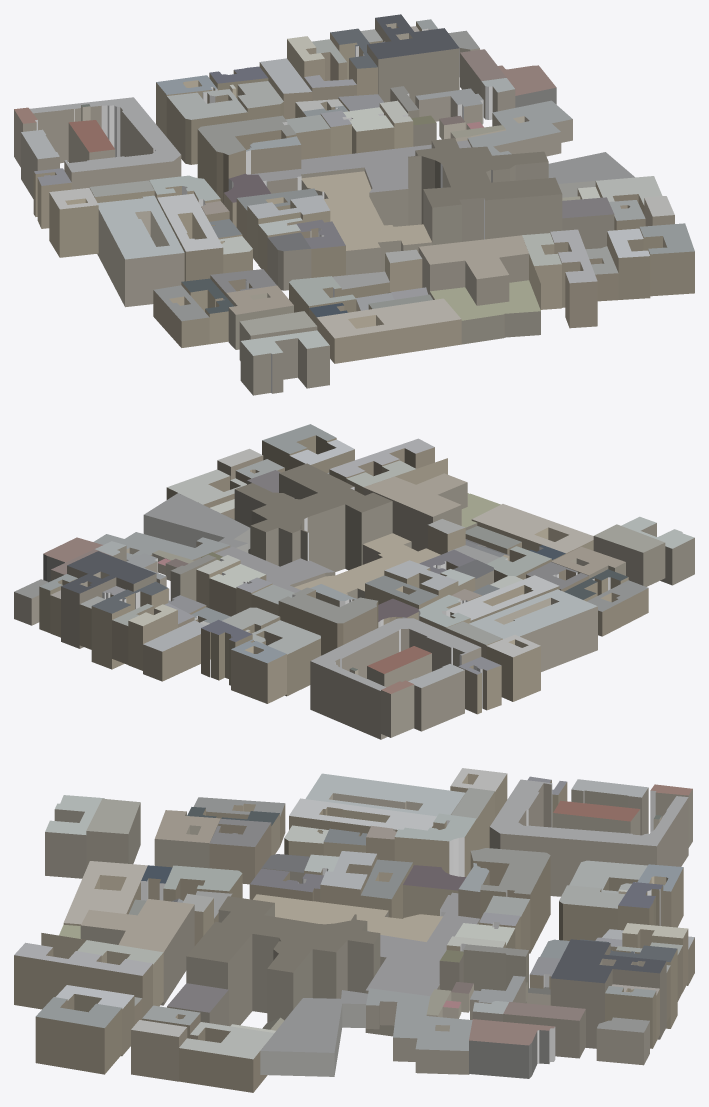
3 renders of one model, top to bottom at view 1: azimuth 30°, elevation 25°; view 2: azimuth 150°, elevation 25°; view 3: azimuth 270°, elevation 25°, orthographic. The views are drawn at different scales.
Visible parts, largest first — view 1: tuile; view 2: tuile; view 3: tuile.
Boxes of the visible parts, x1,y1,x2,y2 form: tuile: [14, 14, 694, 395]; tuile: [14, 424, 694, 739]; tuile: [14, 768, 694, 1092].
Size of the model in its own units: 268 by 41.36 by 281.
